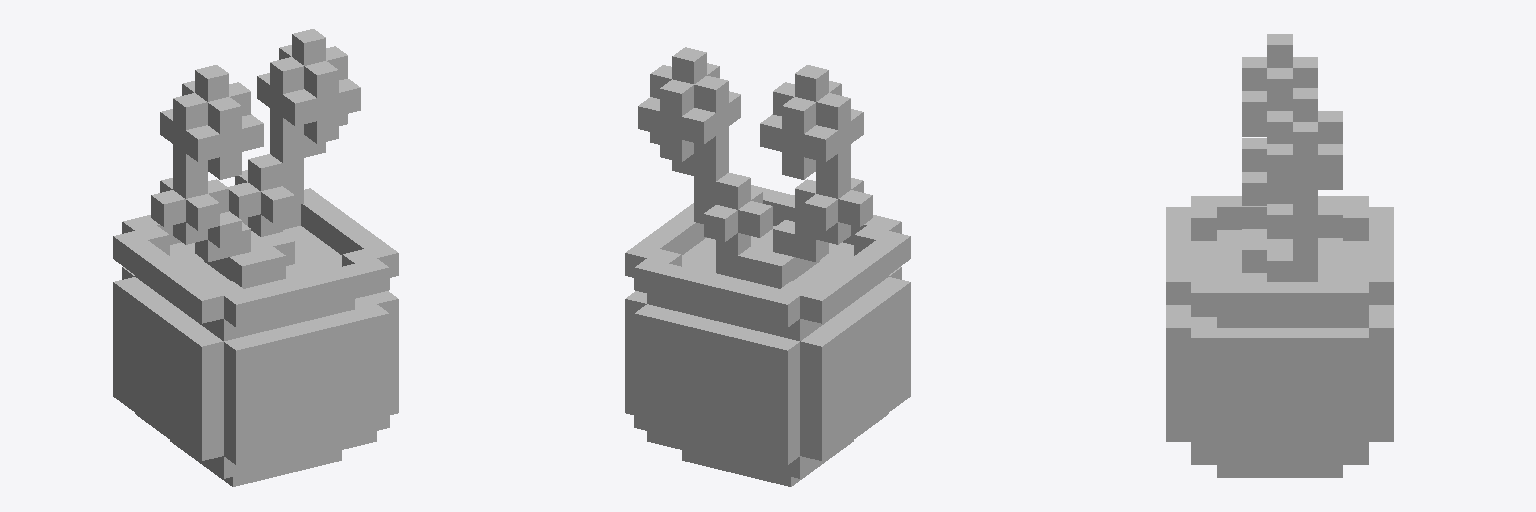
The model's file is flower 2.obj.
3 renders of one model, left to right at view 1: azimuth 30°, elevation 25°; view 2: azimuth 150°, elevation 25°; view 3: azimuth 270°, elevation 25°, orthographic.
Parts seen in each view (by area): view 1: object 1; view 2: object 1; view 3: object 1.
Part boxes in pixels (left/top/right/bottom): object 1: left=113, top=29, right=398, bottom=486; object 1: left=625, top=47, right=910, bottom=486; object 1: left=1166, top=34, right=1393, bottom=477.
Size of the model in its own units: 0.9 by 1.7 by 0.9.